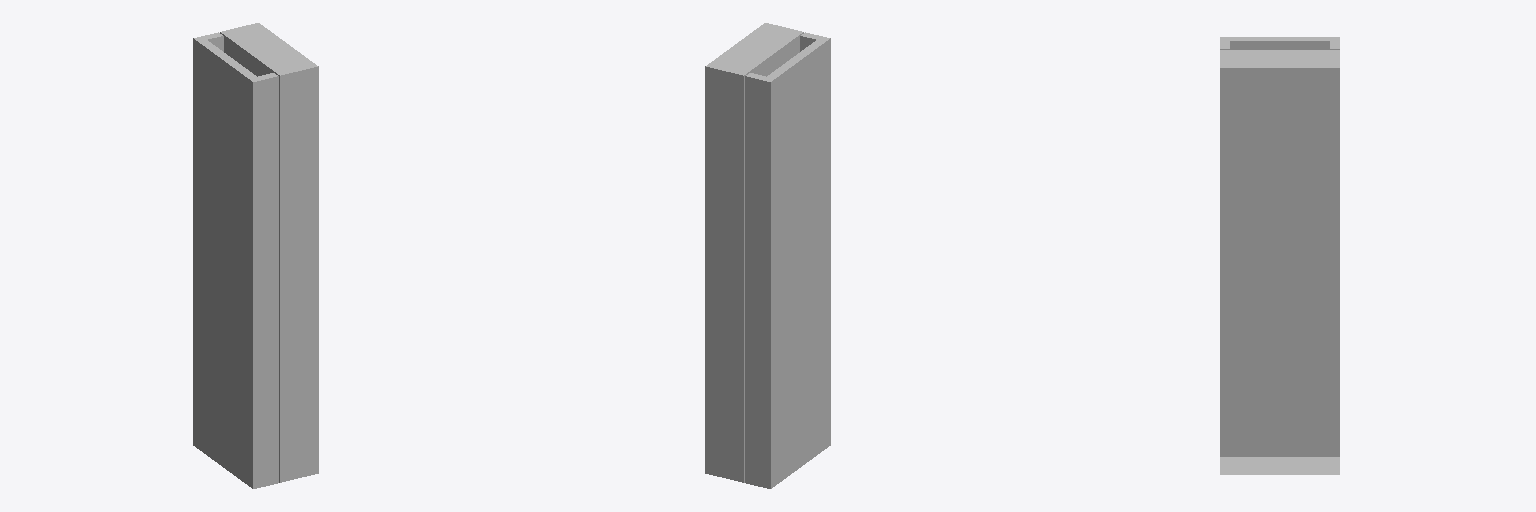
The model's file is LadderCage.obj.
3 views of the same model, side by side, from view 1: azimuth 30°, elevation 25°; view 2: azimuth 150°, elevation 25°; view 3: azimuth 270°, elevation 25° (orthographic).
Visible parts, largest first — view 1: LadderCage_LadderLock.003; view 2: LadderCage_LadderLock.003; view 3: LadderCage_LadderLock.003.
Part boxes in pixels (left/top/right/bottom): LadderCage_LadderLock.003: left=193, top=23, right=318, bottom=488; LadderCage_LadderLock.003: left=705, top=23, right=830, bottom=488; LadderCage_LadderLock.003: left=1220, top=37, right=1339, bottom=474.
Size of the model in its own units: 0.3626 by 2.17 by 0.5777.